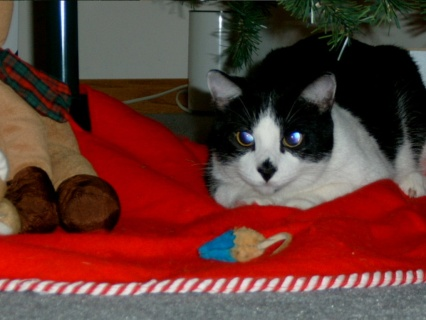Cat: (203, 26, 425, 205)
